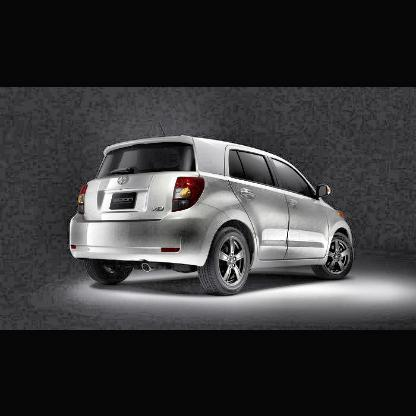Scion xD Hatchback 2012: (69, 134, 357, 298)
